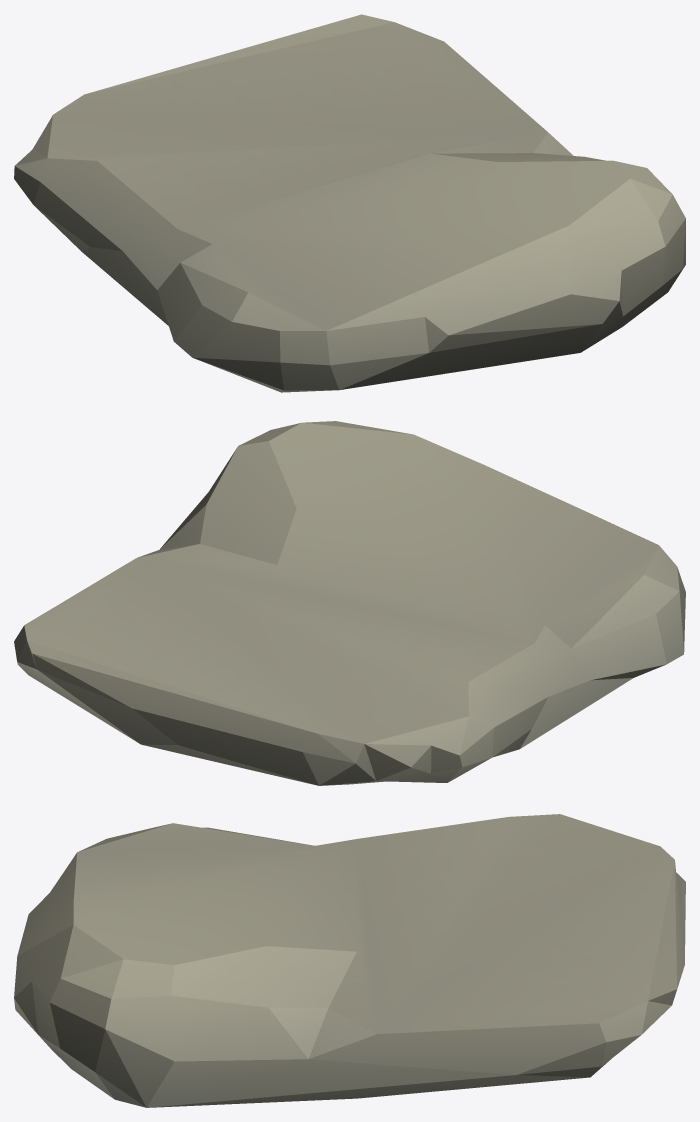
File: rock_3_09.fbx
3 views of the same model, one above another, from view 1: azimuth 30°, elevation 25°; view 2: azimuth 150°, elevation 25°; view 3: azimuth 270°, elevation 25° (orthographic). The views are drawn at different scales.
Parts seen in each view (by area): view 1: rock_3_09; view 2: rock_3_09; view 3: rock_3_09.
Boxes of the visible parts, x1=… form: rock_3_09: x1=14, y1=14, x2=685, y2=392; rock_3_09: x1=14, y1=421, x2=685, y2=785; rock_3_09: x1=14, y1=814, x2=685, y2=1107.
Bounding box in the file's own units: 76.83 × 23.38 × 90.91.
